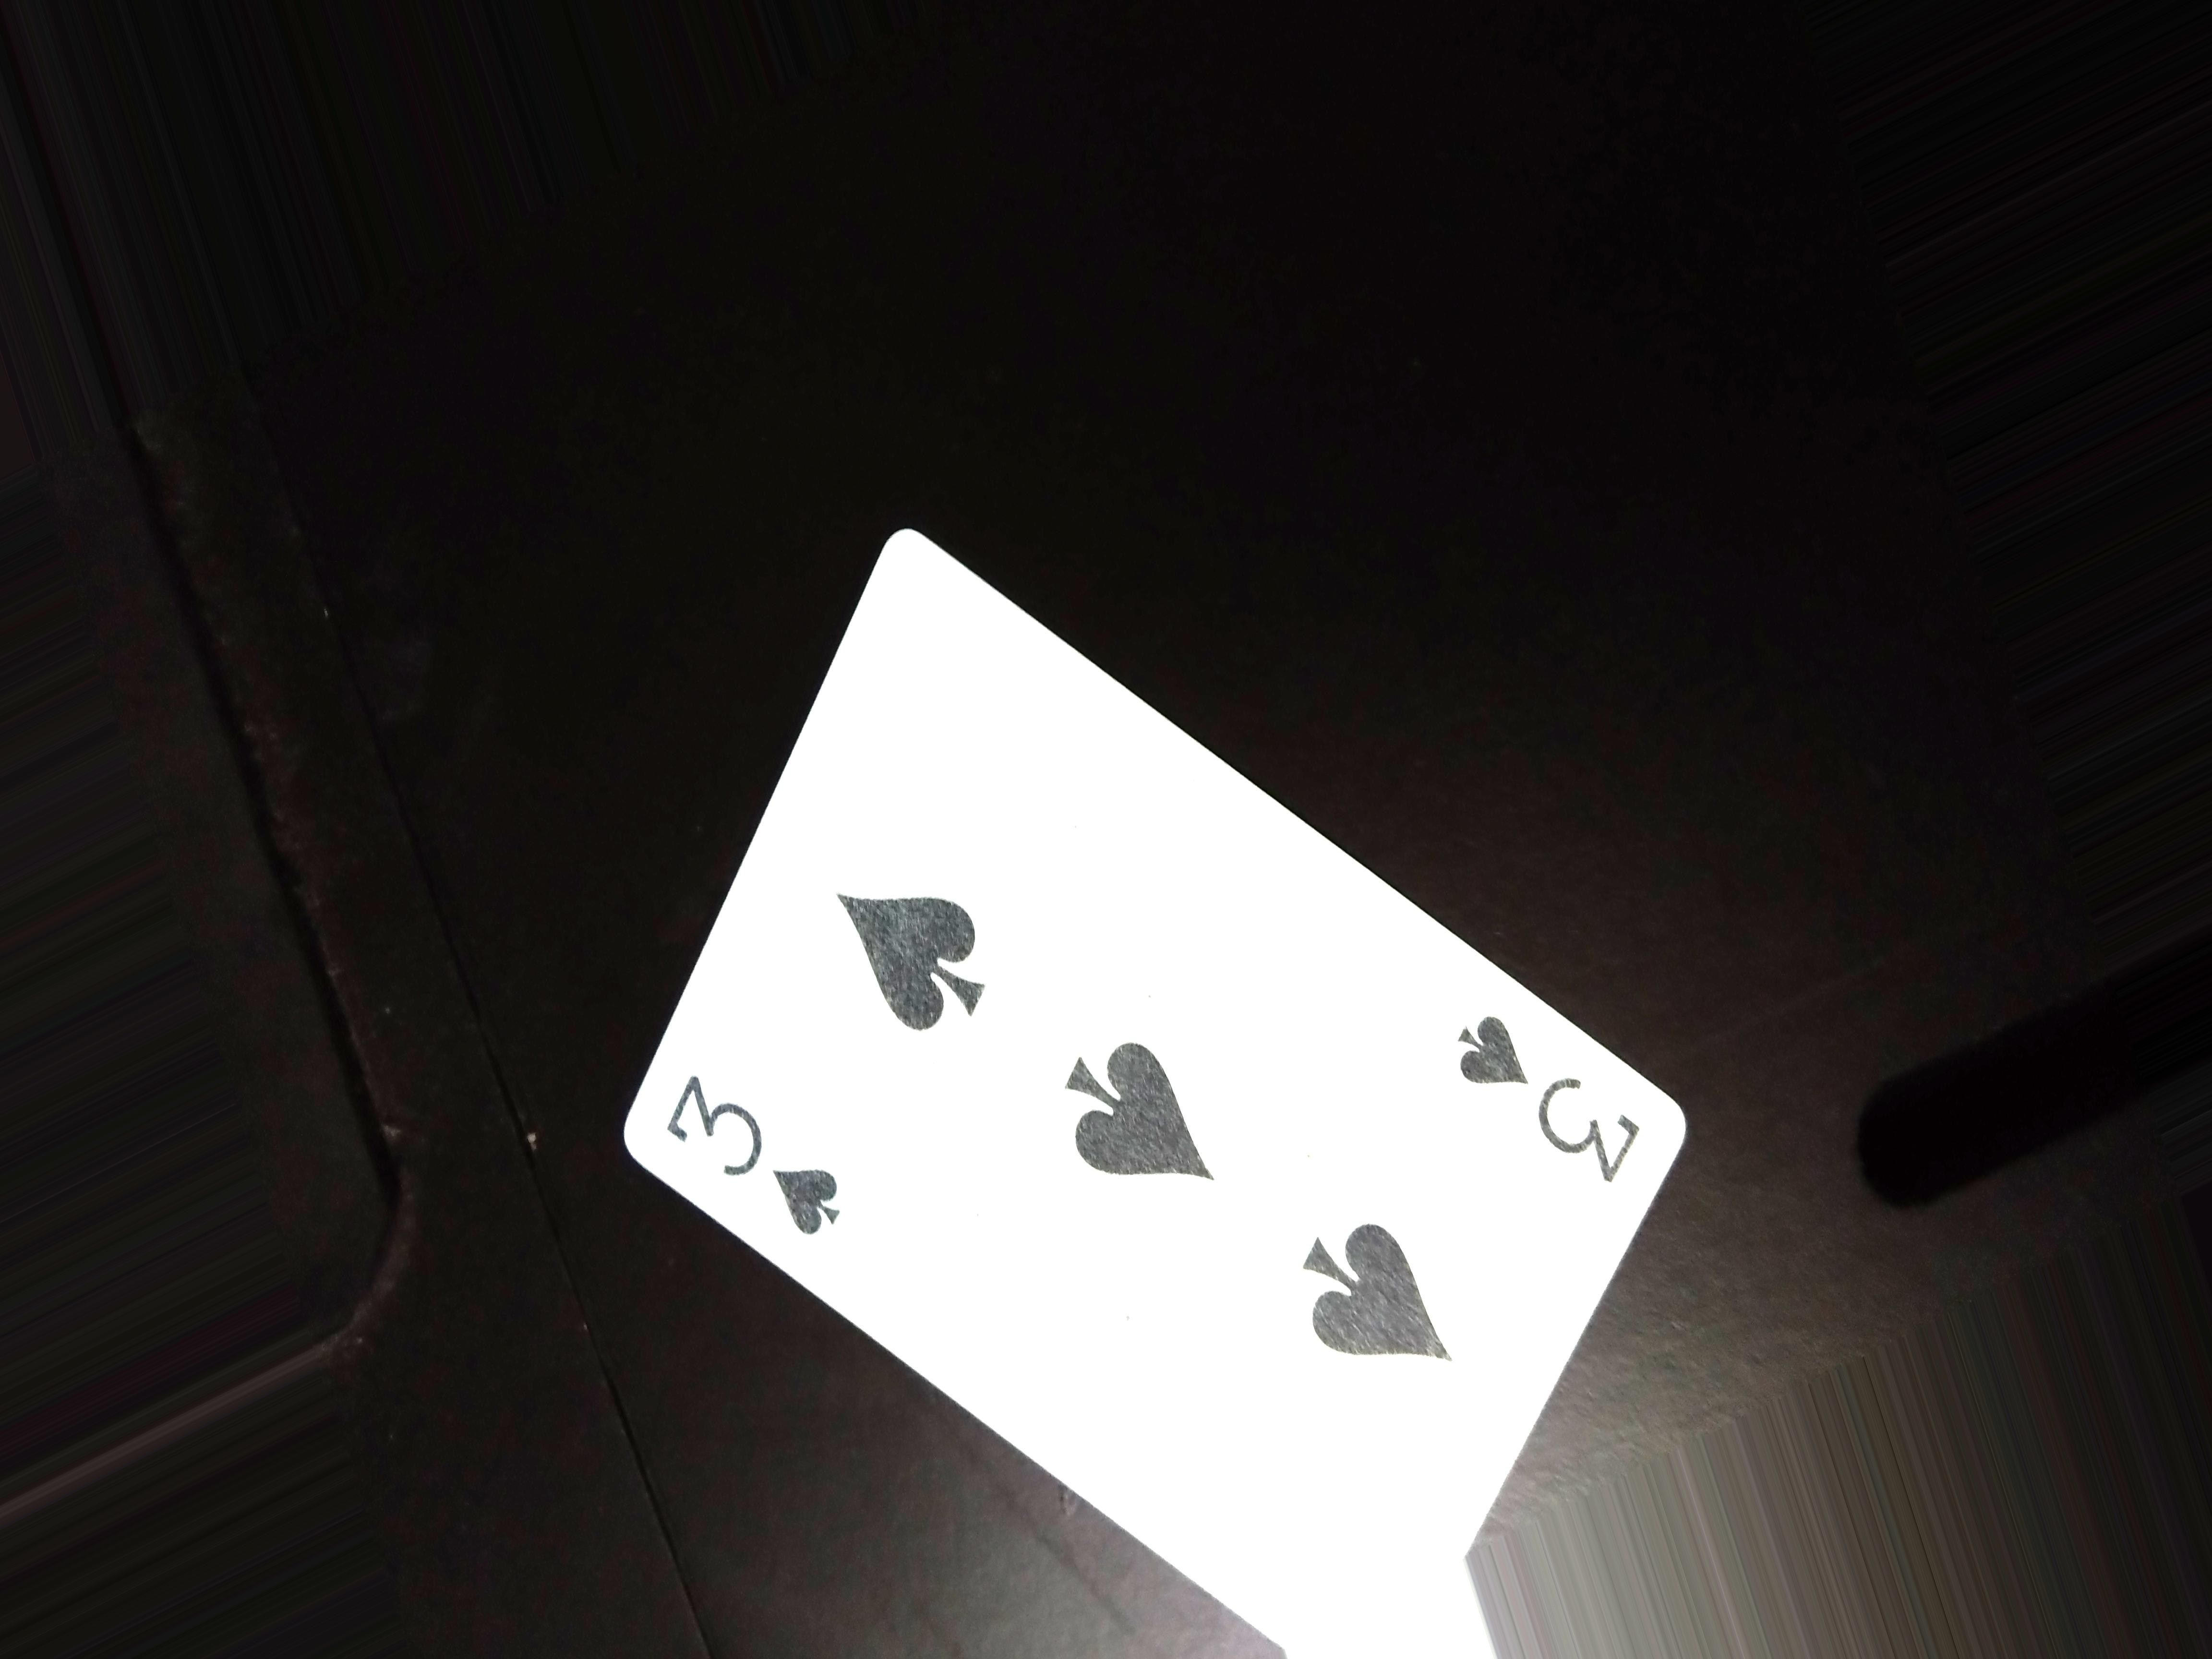3S: (1433, 988, 1658, 1182)
